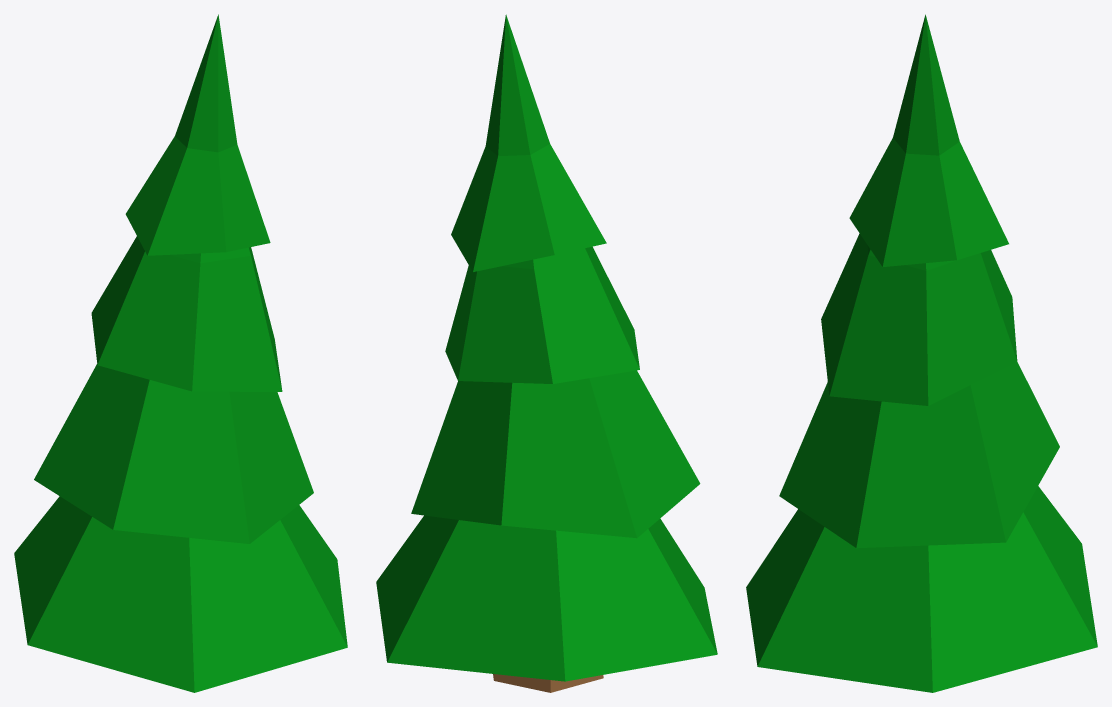
Rendered from tree_pine2.fbx.
3 views of the same model, side by side, from view 1: azimuth 30°, elevation 25°; view 2: azimuth 150°, elevation 25°; view 3: azimuth 270°, elevation 25° (orthographic). The views are drawn at different scales.
Parts seen in each view (by area): view 1: tree_pine2; view 2: tree_pine2; view 3: tree_pine2.
Boxes of the visible parts, left/top/right/bottom form: tree_pine2: left=14, top=14, right=347, bottom=692; tree_pine2: left=376, top=14, right=717, bottom=692; tree_pine2: left=746, top=14, right=1097, bottom=692.
Bounding box in the file's own units: 1.95 × 3.63 × 1.74.
